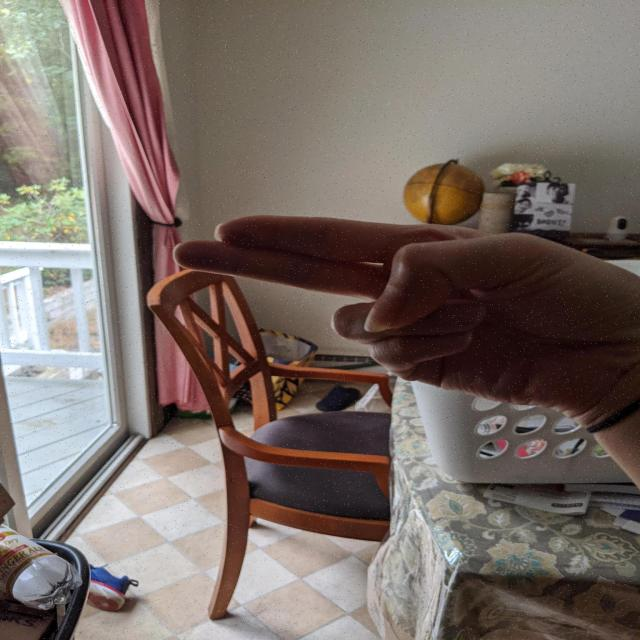H: (162, 207, 640, 415)
